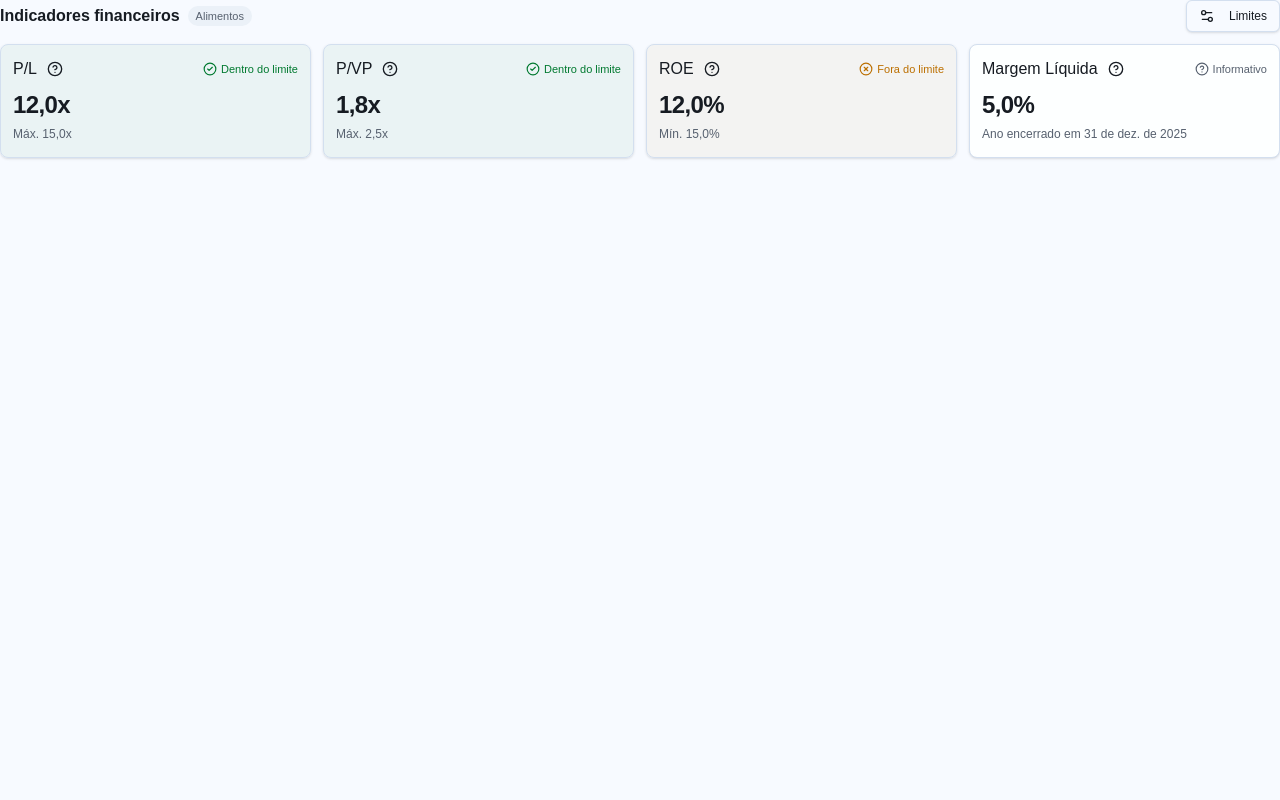
Test case: StockCriteriaSummary › allows disabling optional P/VP, rejects invalid limits, and restores defaults
Click the button "Limites" at coordinates (1233, 16), box x1=1186 y1=0 x2=1279 y2=32
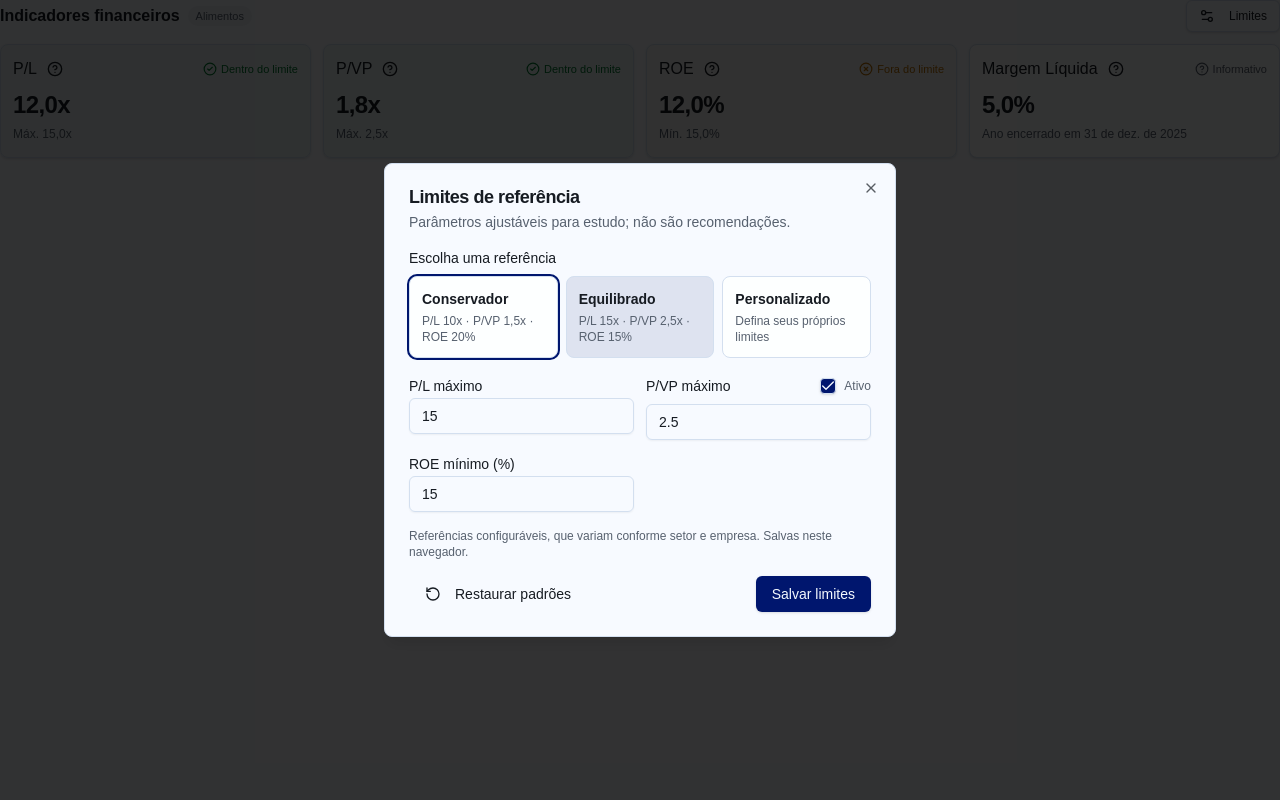
Click the checkbox named "Ativo" at coordinates (828, 386), box x1=820 y1=378 x2=836 y2=394
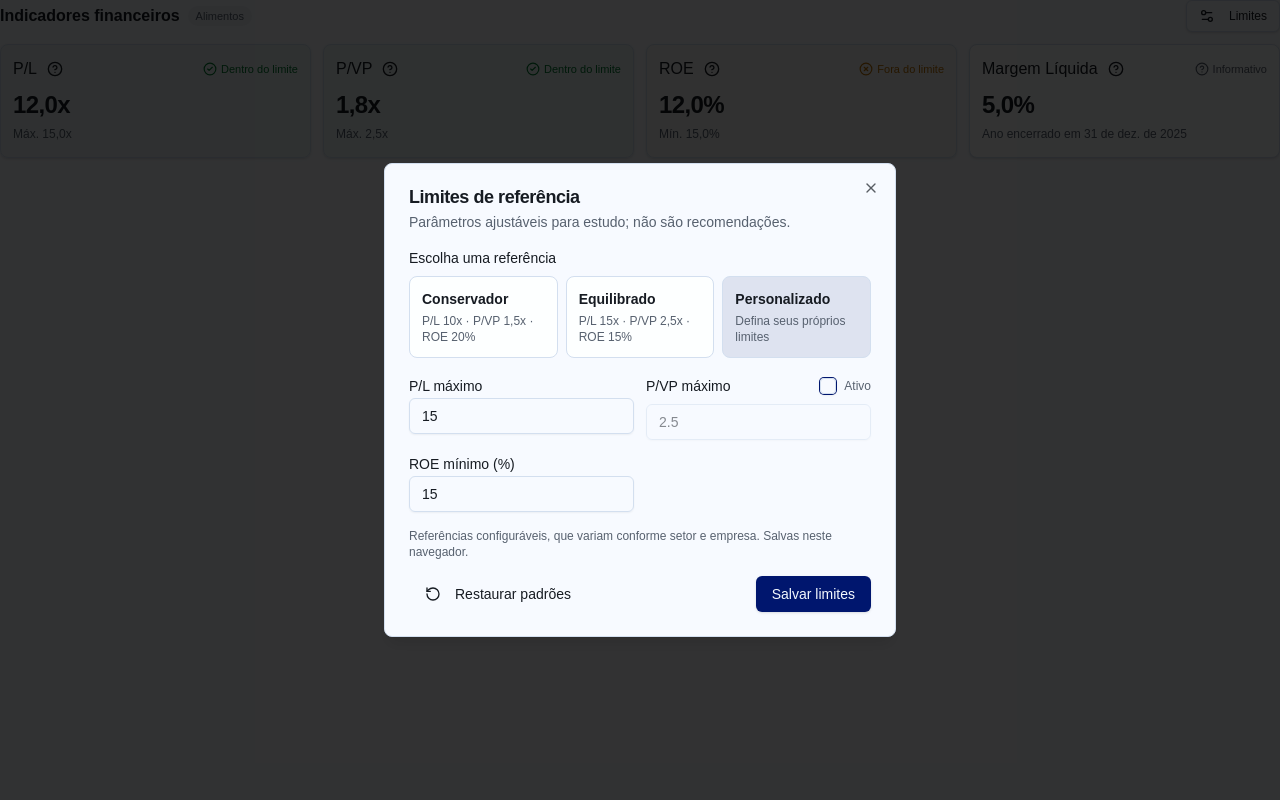
Check: the number field labelled "P/VP máximo" is disabled, box x1=646 y1=404 x2=871 y2=440
Replace the text in the number field labelled "P/L máximo" with "0" at coordinates (522, 416), box x1=409 y1=398 x2=634 y2=434
Click the button "Salvar limites" at coordinates (813, 594), box x1=756 y1=576 x2=871 y2=612
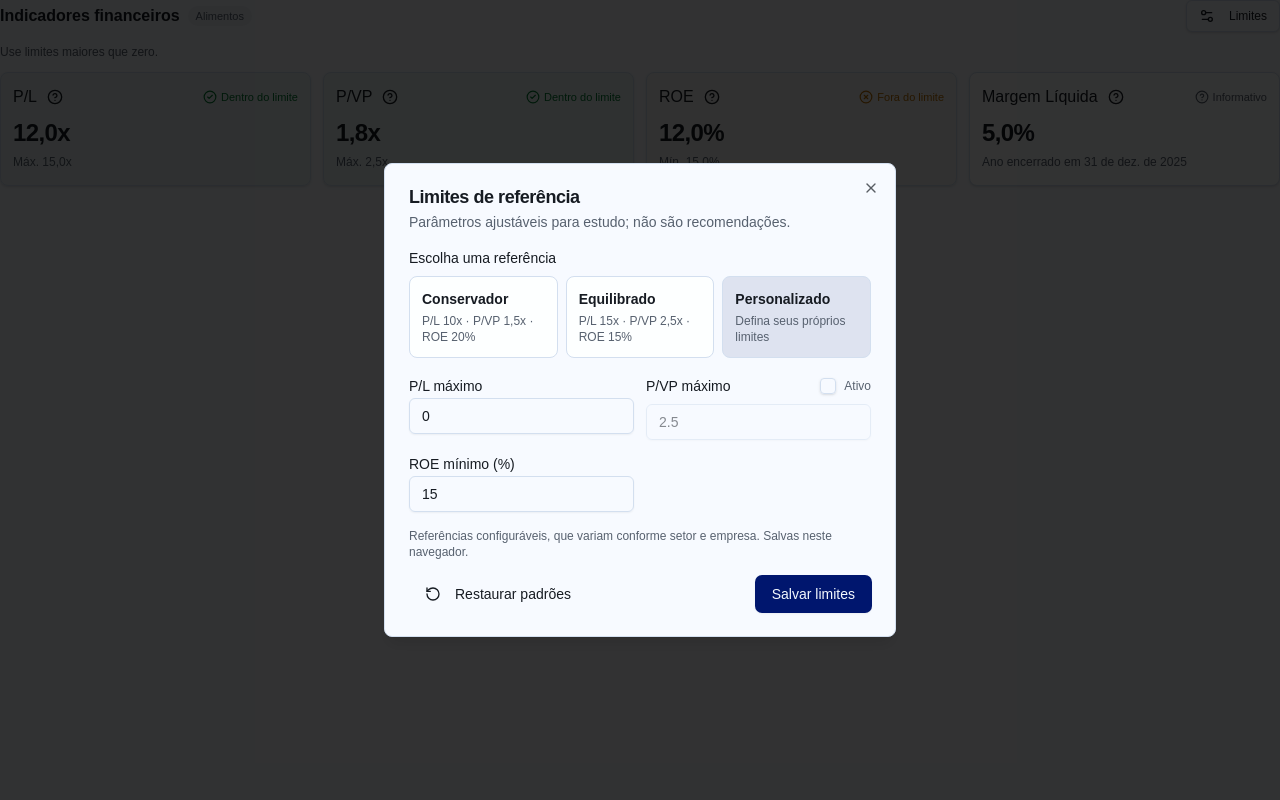
Check: the text "Use limites maiores que zero." is shown, box x1=0 y1=45 x2=158 y2=59
Replace the text in the number field labelled "P/L máximo" with "15" at coordinates (522, 416), box x1=409 y1=398 x2=634 y2=434
Click the button "Salvar limites" at coordinates (813, 594), box x1=756 y1=576 x2=871 y2=612
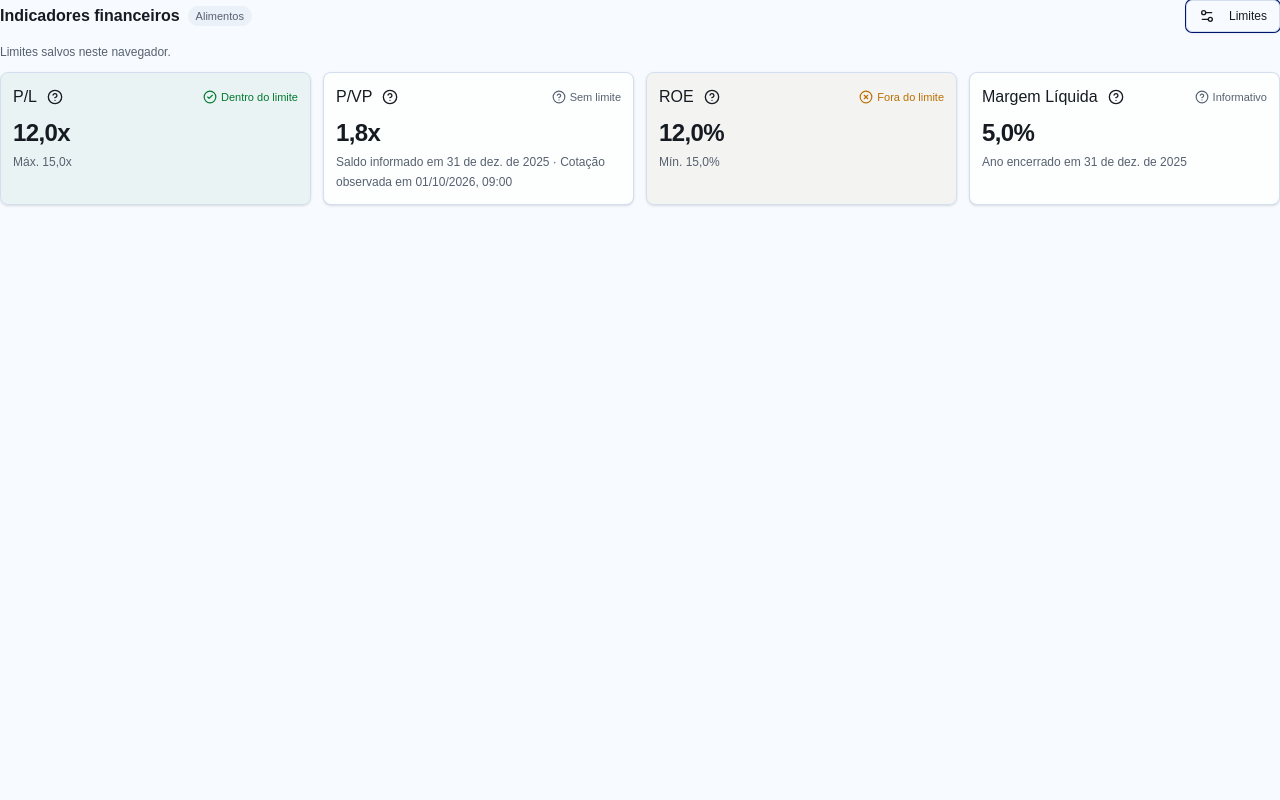
Click the button "Limites" at coordinates (1233, 16), box x1=1186 y1=0 x2=1279 y2=32
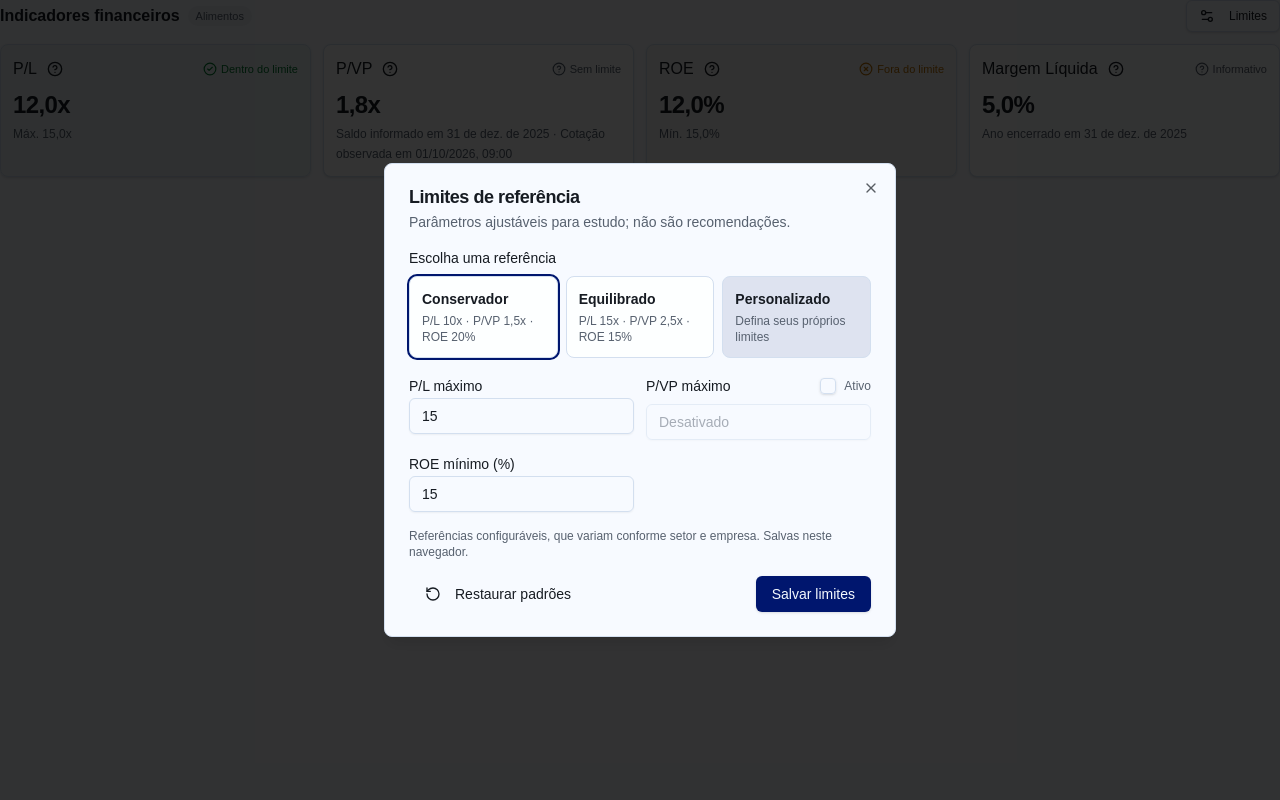
Click the button "Restaurar padrões" at coordinates (498, 594), box x1=409 y1=576 x2=587 y2=612
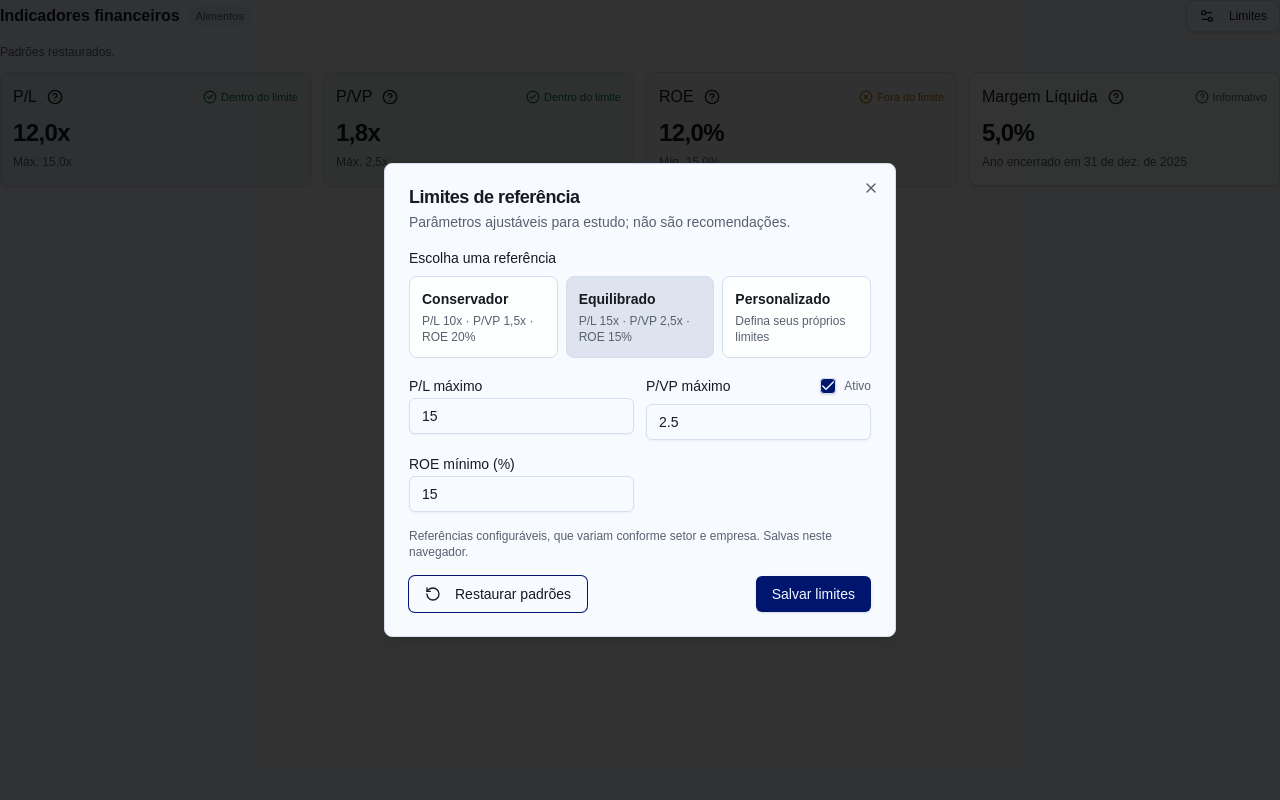
Check: the text "Padrões restaurados." is shown, box x1=0 y1=45 x2=115 y2=59
